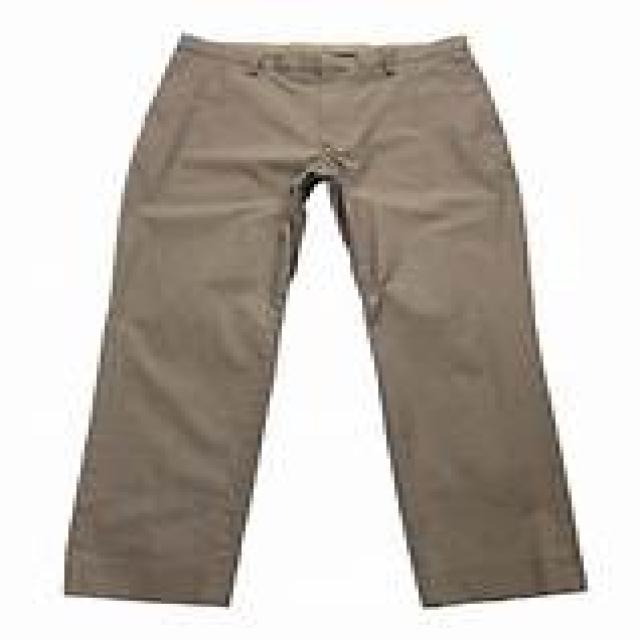long-pants: (55, 31, 593, 611)
